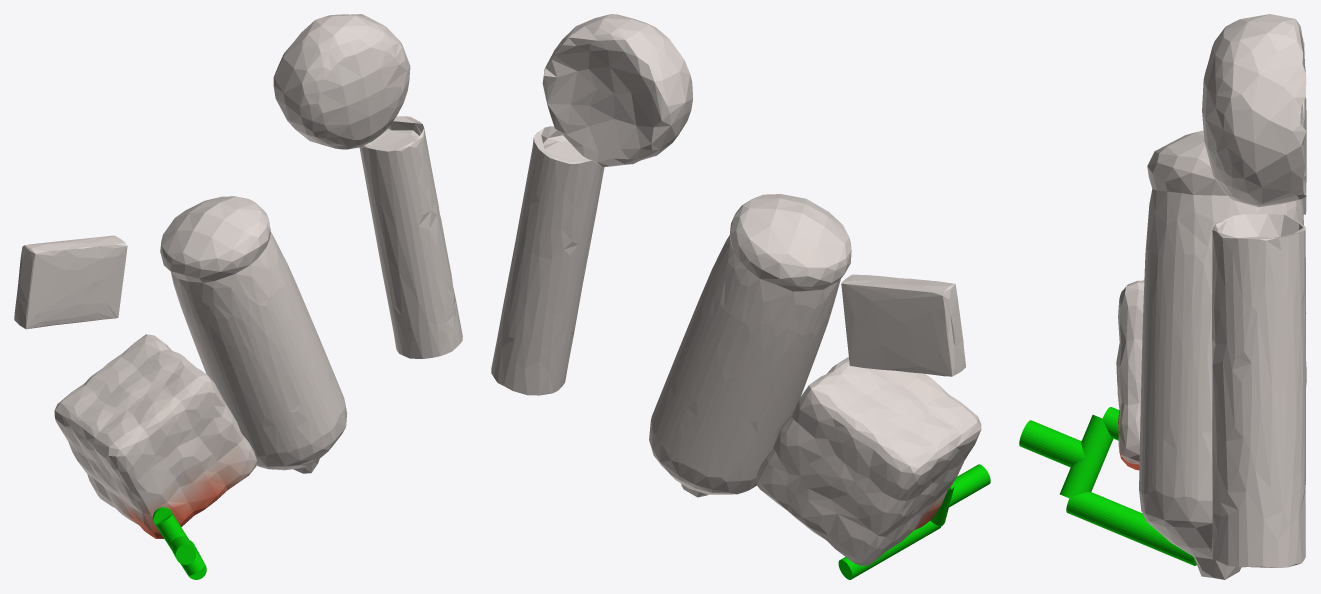
Rendered from round_000_trial_001.obj.
The picture shows the model from 3 angles, left to right: view 1: azimuth 30°, elevation 25°; view 2: azimuth 150°, elevation 25°; view 3: azimuth 270°, elevation 25°; orthographic projection. The views are drawn at different scales.
Visible parts, largest first — view 1: geometry_0, geometry_1; view 2: geometry_0, geometry_1; view 3: geometry_0, geometry_1.
Part boxes in pixels (x1,y1,x2,y2): geometry_0: (14,14,462,538); geometry_1: (152,507,206,579); geometry_0: (491,14,981,565); geometry_1: (838,464,990,579); geometry_0: (1116,14,1306,579); geometry_1: (1019,407,1196,565).
Bounding box in the file's own units: 0.2415 × 0.257 × 0.1008.
